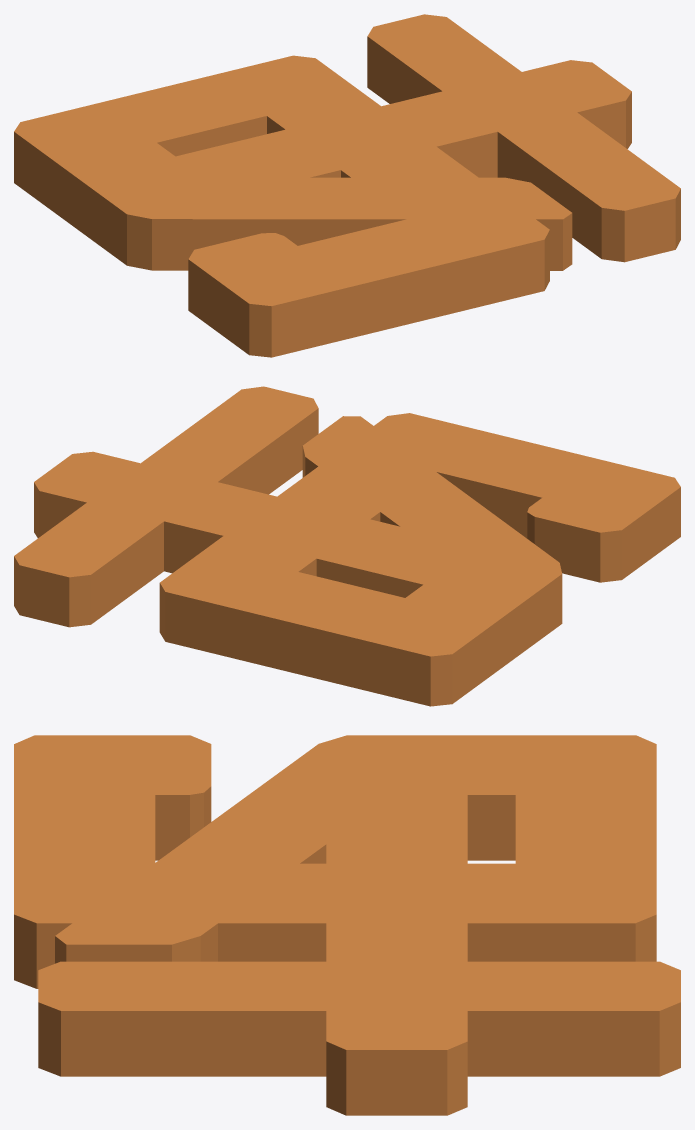
The model's file is Japanese_3D_01_あ.FBX.
3 renders of one model, top to bottom at view 1: azimuth 30°, elevation 25°; view 2: azimuth 150°, elevation 25°; view 3: azimuth 270°, elevation 25°, orthographic. The views are drawn at different scales.
Parts seen in each view (by area): view 1: Japanese_3D_01_あ; view 2: Japanese_3D_01_あ; view 3: Japanese_3D_01_あ.
Boxes of the visible parts, x1,y1,x2,y2 form: Japanese_3D_01_あ: (14,14,680,357); Japanese_3D_01_あ: (14,386,680,706); Japanese_3D_01_あ: (14,735,680,1115).
Bounding box in the file's own units: 77.02 × 7.5 × 68.97.
